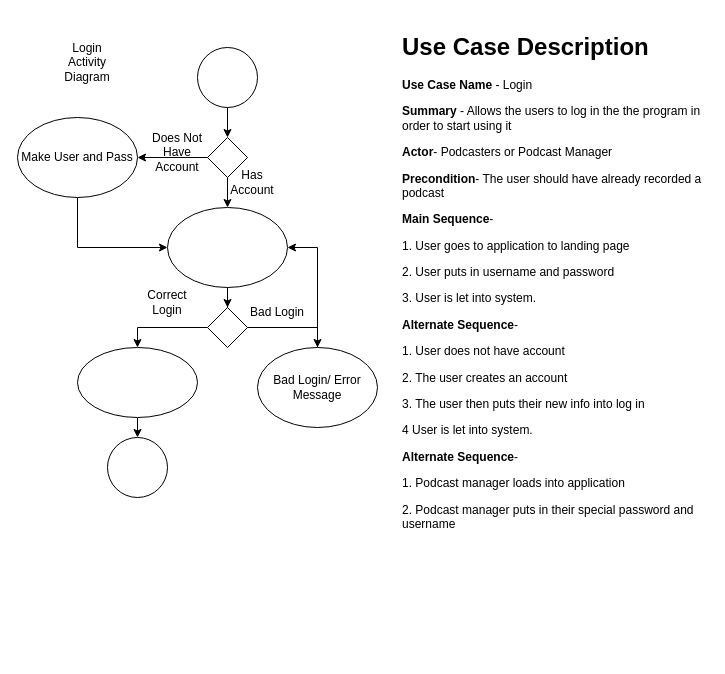
Some shapes in this 725 by 674 pixel diagram are drawn without their labels. The centre of each missing label's shape, as x and y in pixels:
Successful Login: point 137,382
User and Pass: point 227,247
